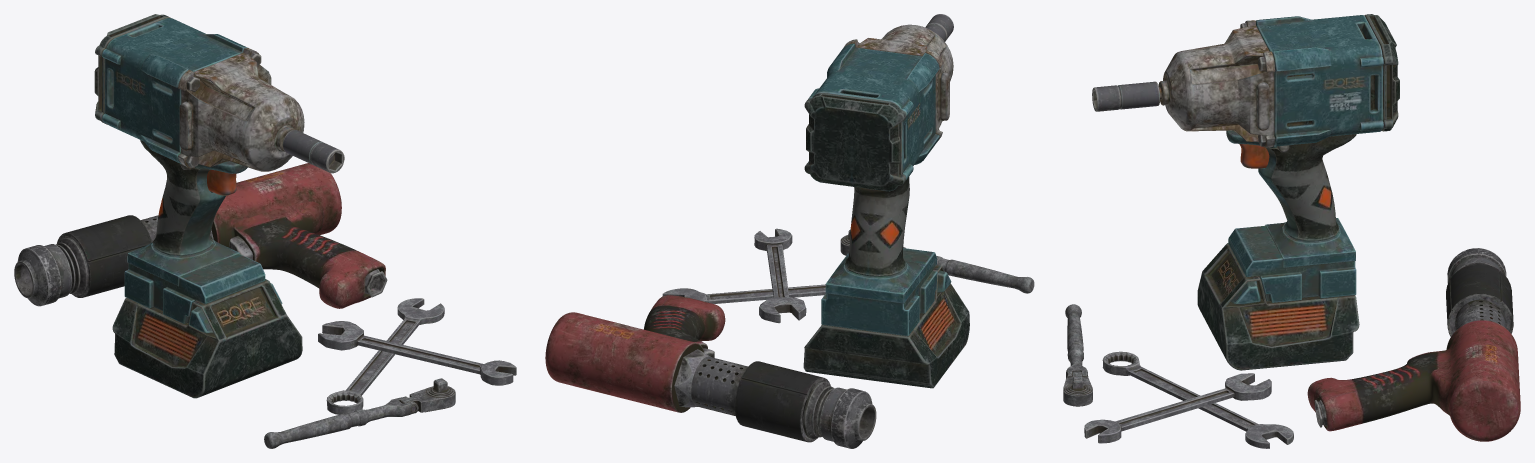
The model's file is garage_tools.glb.
The picture shows the model from 3 angles, left to right: view 1: azimuth 30°, elevation 25°; view 2: azimuth 150°, elevation 25°; view 3: azimuth 270°, elevation 25°; orthographic projection.
Parts seen in each view (by area): view 1: impact wrench, Air hammer.007, Ratchet.004, wrench 2.001, wrench.001; view 2: impact wrench, Air hammer.007, wrench 2.001, Ratchet.004, wrench.001; view 3: impact wrench, Air hammer.007, wrench 2.001, wrench.001, Ratchet.004.
Boxes of the visible parts, x1,y1,x2,y2 form: impact wrench: (94, 14, 344, 398); Air hammer.007: (14, 163, 387, 308); Ratchet.004: (264, 378, 455, 448); wrench 2.001: (318, 321, 516, 385); wrench.001: (326, 298, 444, 414); impact wrench: (803, 14, 969, 388); Air hammer.007: (545, 295, 876, 448); wrench 2.001: (754, 228, 806, 323); Ratchet.004: (840, 229, 1034, 293); wrench.001: (662, 284, 825, 303); impact wrench: (1092, 14, 1399, 370); Air hammer.007: (1307, 248, 1520, 441); wrench 2.001: (1084, 373, 1271, 443); wrench.001: (1102, 351, 1293, 448); Ratchet.004: (1063, 304, 1092, 406).
Size of the model in its own units: 0.2667 by 0.2523 by 0.3429.
Materials: 3 (3 with a texture image).
